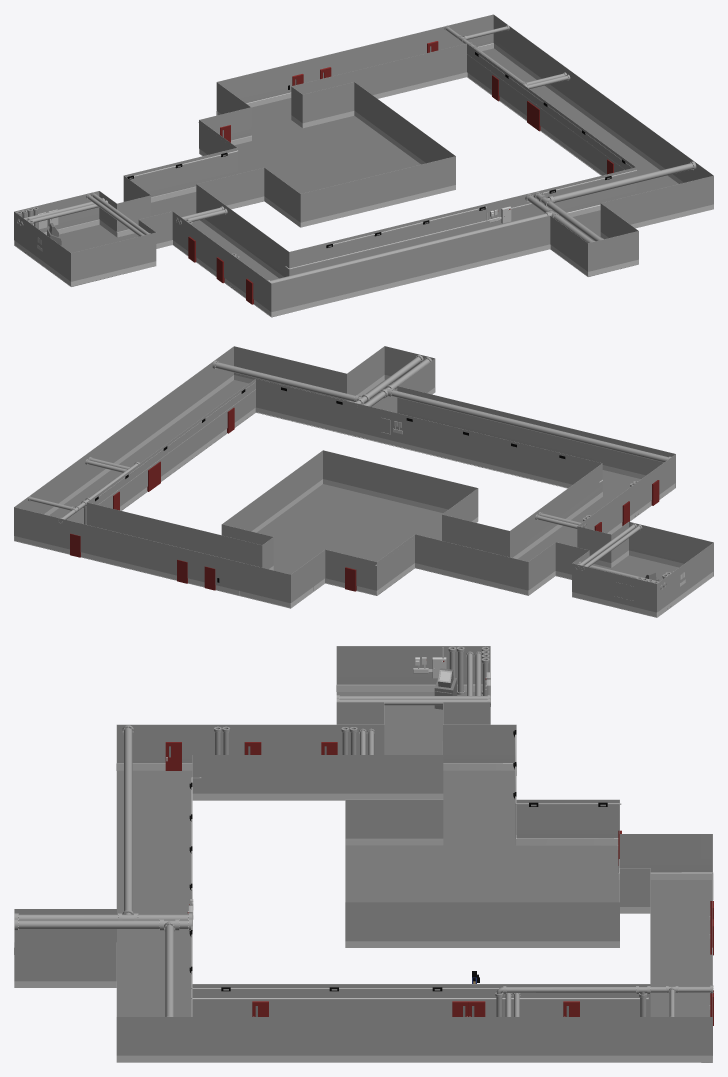
File: Scene02_Compound.fbx
The picture shows the model from 3 angles, top to bottom: view 1: azimuth 30°, elevation 25°; view 2: azimuth 150°, elevation 25°; view 3: azimuth 270°, elevation 25°; orthographic projection. The views are drawn at different scales.
Parts seen in each view (by area): view 1: Walls, Floor, Pipes, Light, ElectricPanel.004; view 2: Walls, Floor, Pipes; view 3: Walls, Floor, Pipes, Light, ElectricPanel.004.
Boxes of the visible parts, bbox=[...] form: Walls: bbox=[14, 14, 713, 317]; Floor: bbox=[20, 48, 678, 294]; Pipes: bbox=[16, 25, 696, 289]; Light: bbox=[127, 52, 636, 247]; ElectricPanel.004: bbox=[285, 54, 624, 269]; Walls: bbox=[14, 346, 713, 617]; Floor: bbox=[14, 380, 711, 616]; Pipes: bbox=[28, 355, 673, 609]; Walls: bbox=[14, 646, 713, 1062]; Floor: bbox=[117, 692, 711, 1016]; Pipes: bbox=[14, 646, 713, 1016]; Light: bbox=[189, 730, 621, 991]; ElectricPanel.004: bbox=[187, 777, 648, 999].
Bounding box in the file's own units: 4074 × 333 × 3244.
